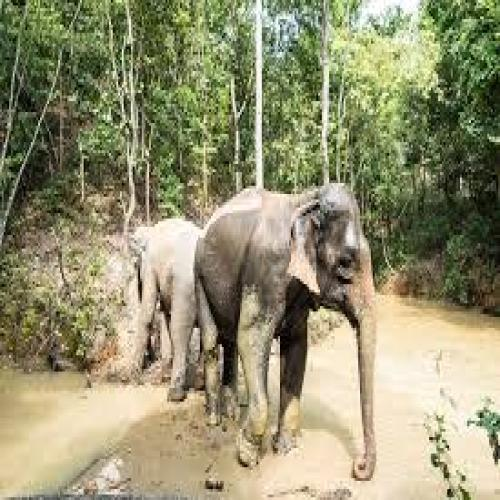asian_elephant-endangered: (194, 187, 376, 480), (130, 220, 220, 419)
